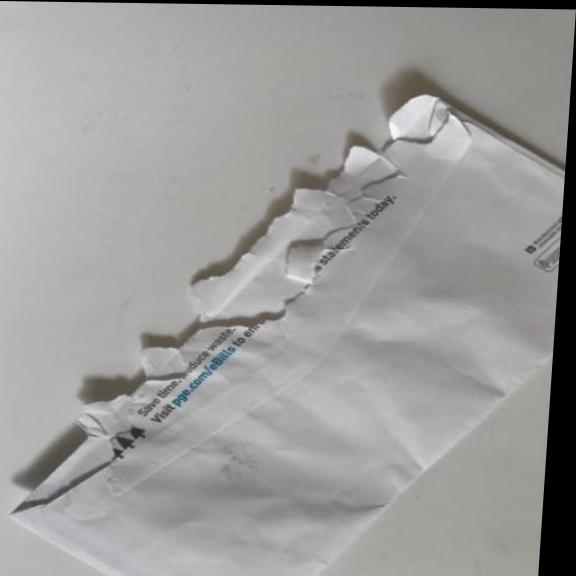Kertas: (0, 84, 570, 576)
